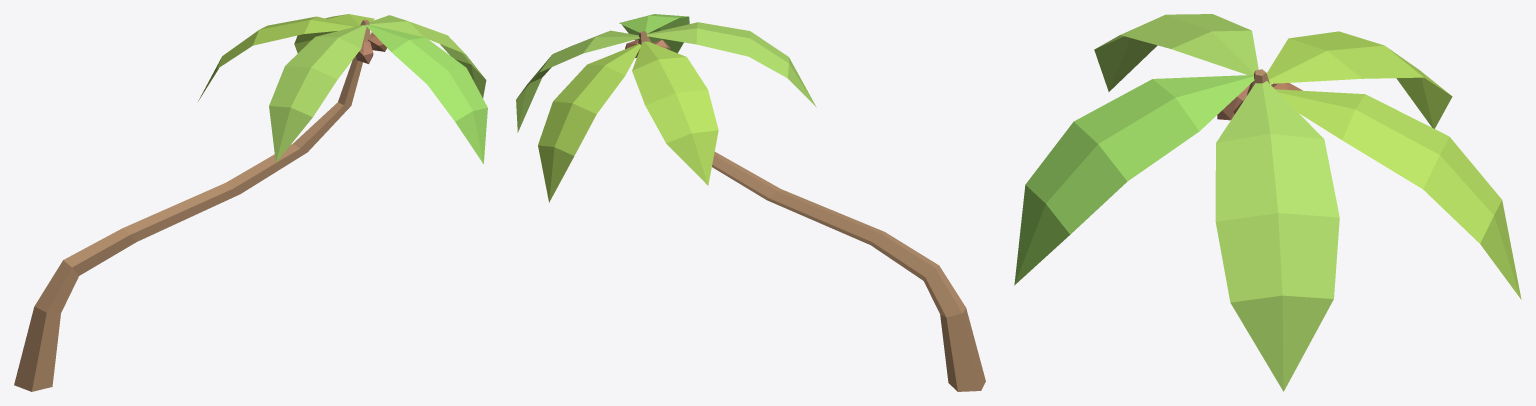
Rendered from Palm_Tree_Coconut_OneSided_s_05_LOD.fbx.
3 views of the same model, side by side, from view 1: azimuth 30°, elevation 25°; view 2: azimuth 150°, elevation 25°; view 3: azimuth 270°, elevation 25° (orthographic). The views are drawn at different scales.
Visible parts, largest first — view 1: Palm_Tree_Coconut_OneSided_s_05_LOD0; view 2: Palm_Tree_Coconut_OneSided_s_05_LOD0; view 3: Palm_Tree_Coconut_OneSided_s_05_LOD0.
Boxes of the visible parts, x1,y1,x2,y2 form: Palm_Tree_Coconut_OneSided_s_05_LOD0: (14, 14, 487, 391); Palm_Tree_Coconut_OneSided_s_05_LOD0: (516, 14, 985, 391); Palm_Tree_Coconut_OneSided_s_05_LOD0: (1014, 14, 1521, 391).
Size of what is drawn, in the model's own units: 447 by 258 by 244.
